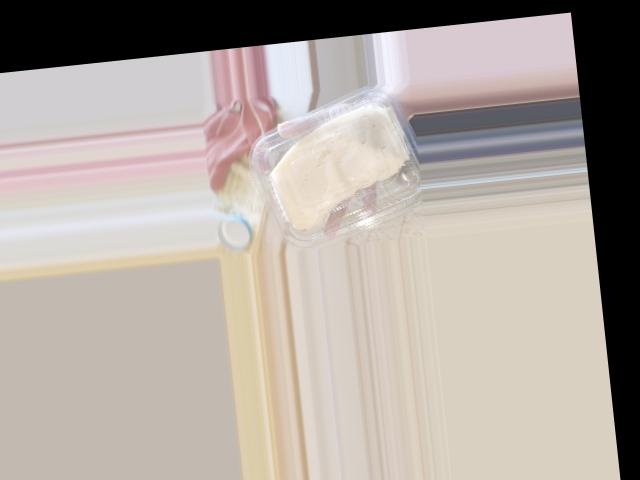cheese: (241, 91, 427, 248)
